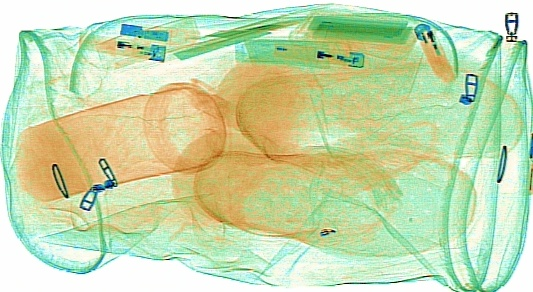lighter: (77, 32, 165, 62), (413, 21, 454, 82), (272, 43, 364, 69)
